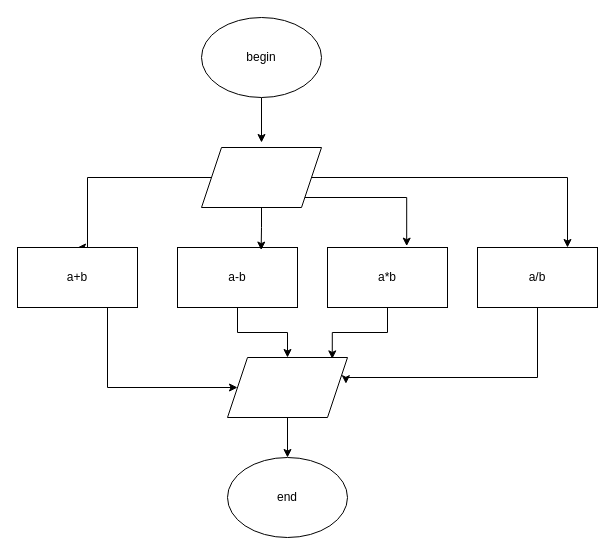
Image size: 615x555. Some labels were removed from this diagram. The shapes that lost their labels are listed below. From the top down, each one's centre as x and y in pixels, then its label:
At (x=261, y=177): "a,b".
At (x=287, y=387): "ket qua".
